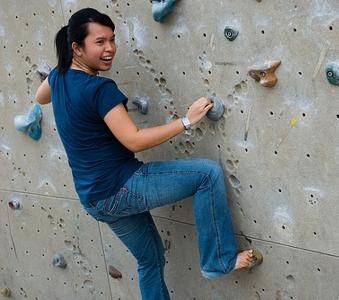person: (34, 8, 254, 300)
